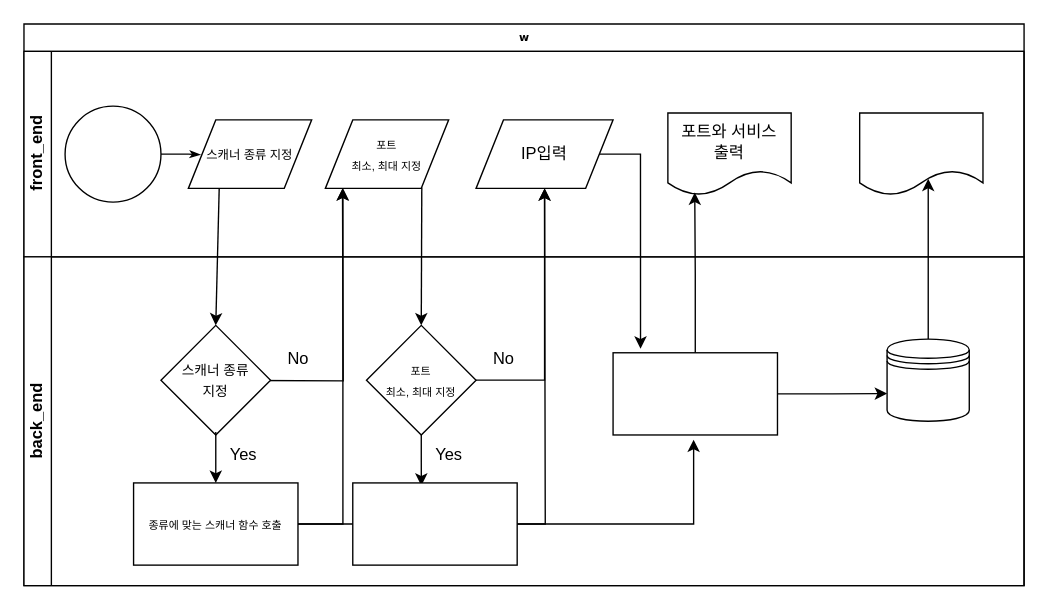
The diagram is 1048 pixels wide and 610 high, and some of its shapes have lost their labels. The shapes that lost their labels are listed below. From the top down, each one's centre as x and y in pixels, then its label:
At (x=112, y=153): "start".
At (x=920, y=153): "취약점 출력".
At (x=694, y=393): "입력 받은 스캐너와 포트 최소, 최대값, IP값을 가지고 스캐너 작동".
At (x=927, y=379): "서비스 버전별 취약점".
At (x=434, y=523): "포트 최소, 최대값 지정".
